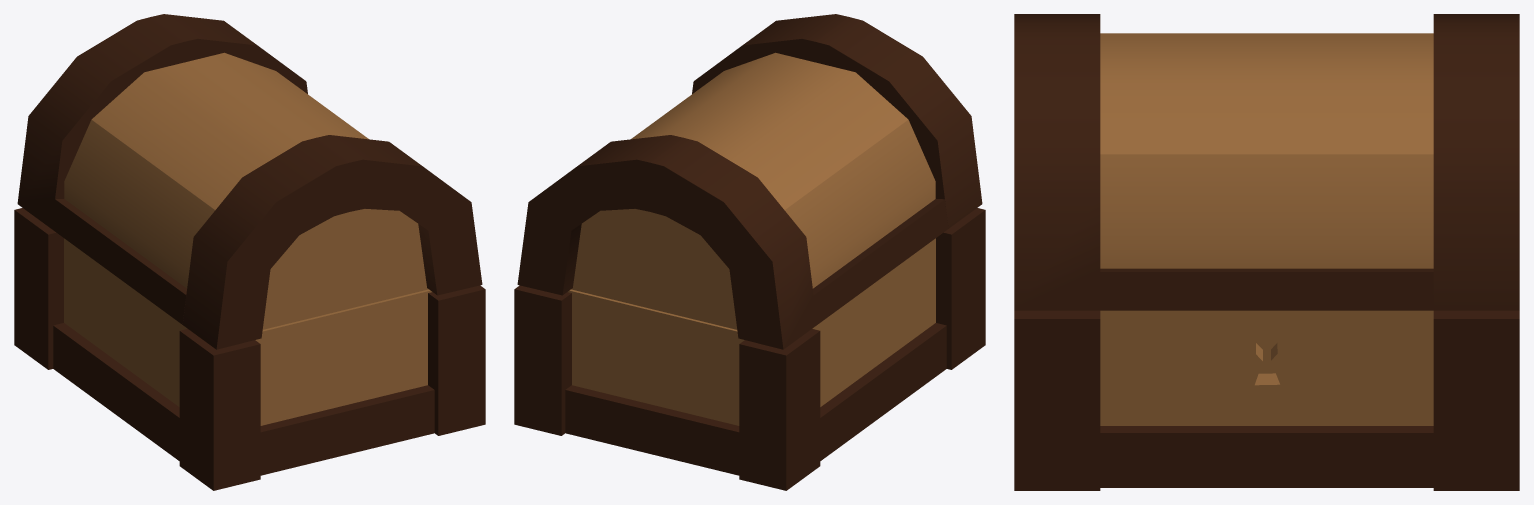
File: Coffre.FBX
The picture shows the model from 3 angles, left to right: view 1: azimuth 30°, elevation 25°; view 2: azimuth 150°, elevation 25°; view 3: azimuth 270°, elevation 25°; orthographic projection. The views are drawn at different scales.
Parts seen in each view (by area): view 1: Box002, Box001; view 2: Box002, Box001; view 3: Box002, Box001.
Part boxes in pixels (x1,y1,x2,y2): Box002: [17, 14, 482, 349]; Box001: [14, 208, 485, 490]; Box002: [517, 14, 982, 349]; Box001: [514, 208, 985, 490]; Box002: [1014, 14, 1519, 310]; Box001: [1014, 310, 1519, 490].
Bounding box in the file's own units: 23.76 × 24.63 × 30.13.
